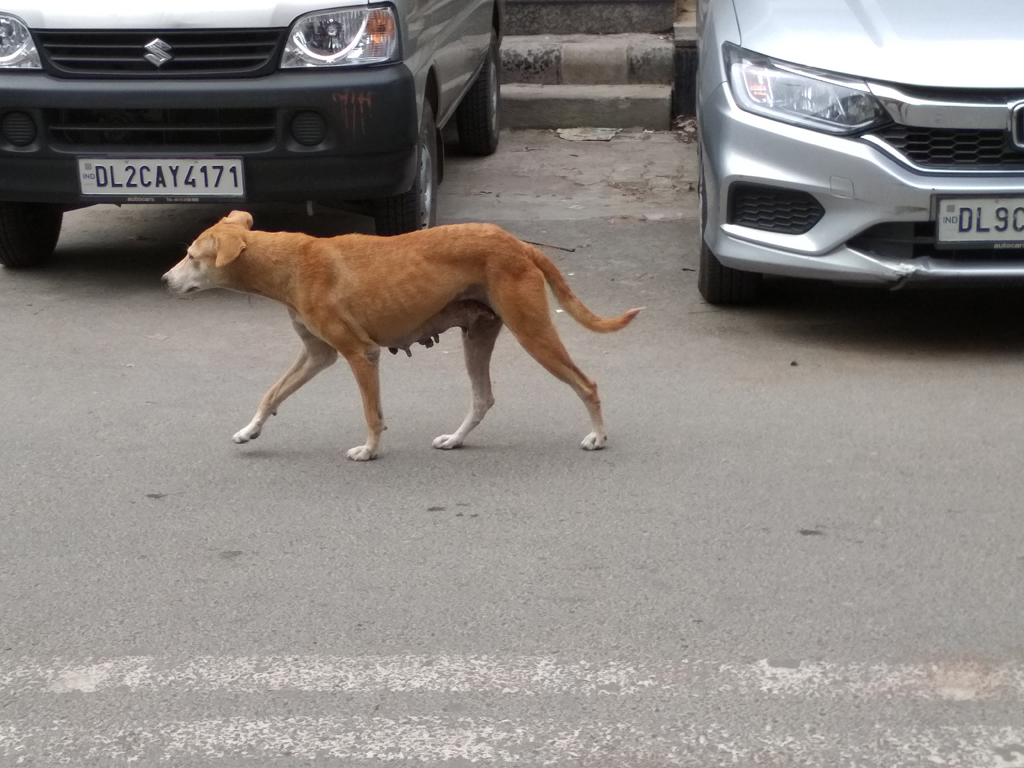dog: (160, 209, 647, 461)
